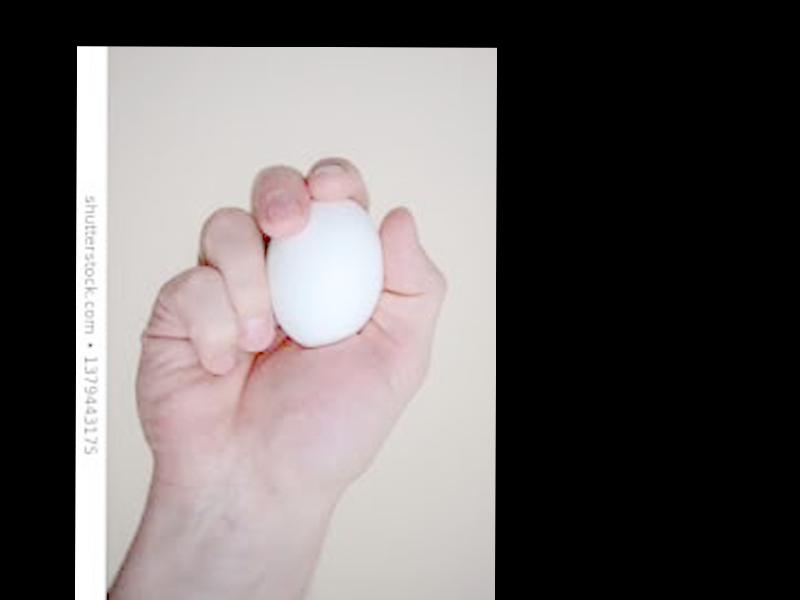Eggs: (267, 199, 383, 349)
